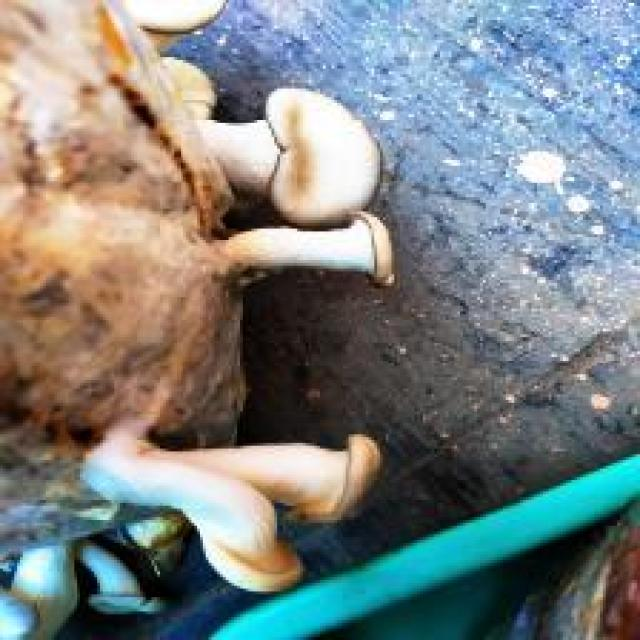chanterelle: (0, 0, 394, 451)
